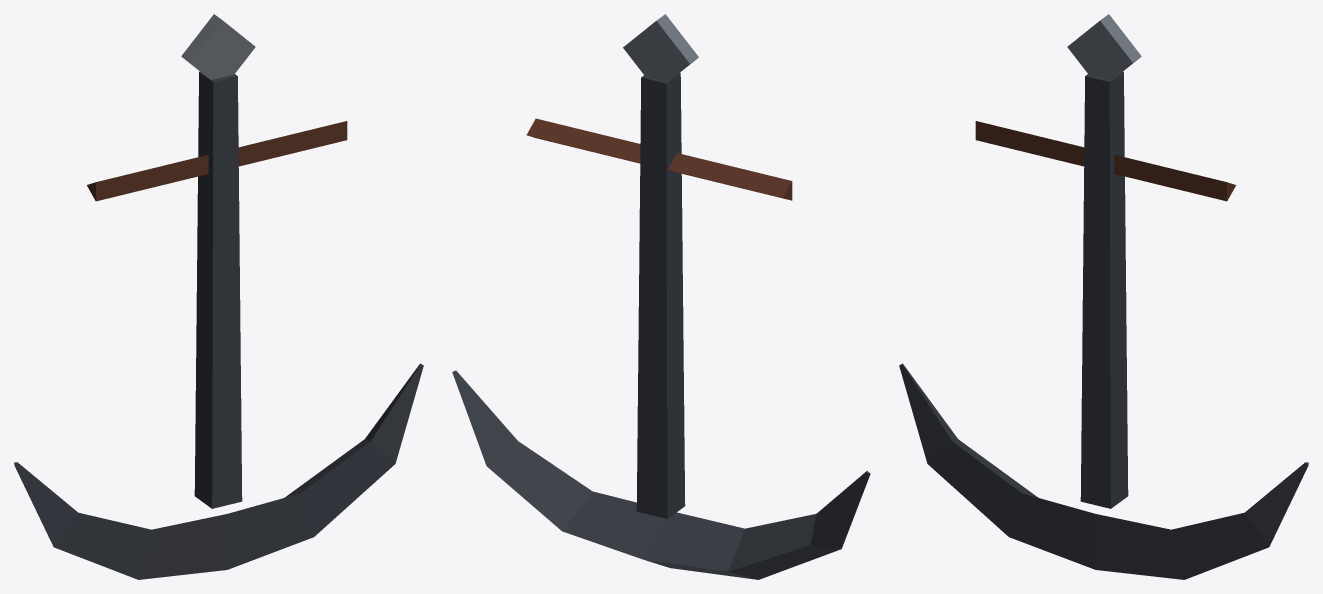
Rendered from SM_Prop_KragAnchor_LQ.glb.
3 views of the same model, side by side, from view 1: azimuth 30°, elevation 25°; view 2: azimuth 150°, elevation 25°; view 3: azimuth 330°, elevation 25° (orthographic). The views are drawn at different scales.
Parts seen in each view (by area): view 1: SM_Prop_KragAnchor_LQ; view 2: SM_Prop_KragAnchor_LQ; view 3: SM_Prop_KragAnchor_LQ.
Boxes of the visible parts, x1,y1,x2,y2 form: SM_Prop_KragAnchor_LQ: (14, 14, 423, 579); SM_Prop_KragAnchor_LQ: (452, 14, 870, 579); SM_Prop_KragAnchor_LQ: (899, 14, 1308, 579).
Size of the model in its own units: 2.12 by 2.7 by 0.24.
Materials: 1 (1 with a texture image).
